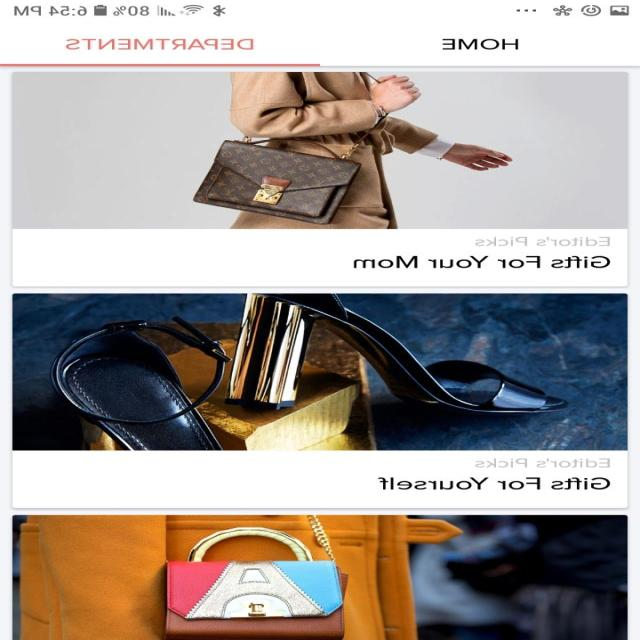Image: (12, 71, 630, 229), (14, 293, 628, 450), (14, 514, 628, 640)
Text: (354, 256, 610, 268), (378, 476, 610, 489), (66, 38, 254, 50), (474, 458, 610, 468), (474, 236, 610, 246), (442, 38, 520, 50)
